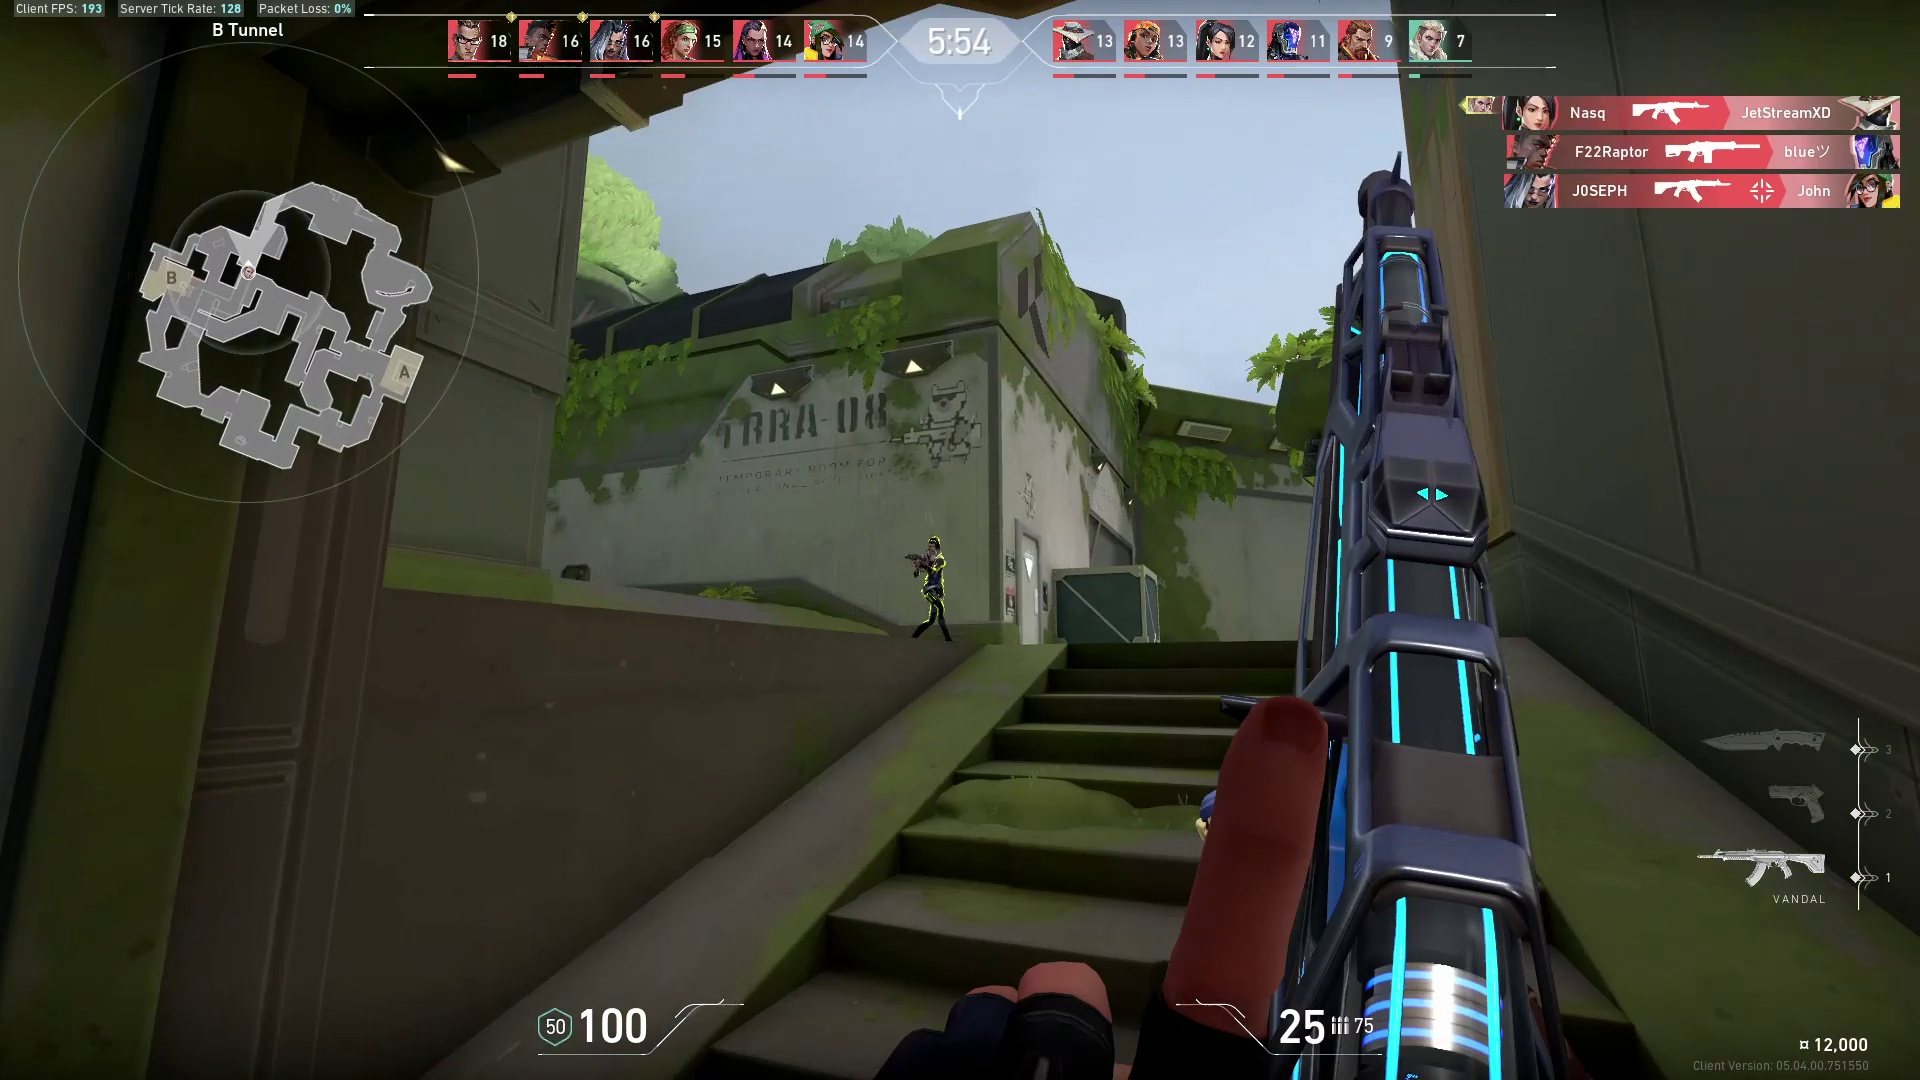enemy_body: (910, 554, 967, 642)
enemy_head: (924, 531, 945, 560)
